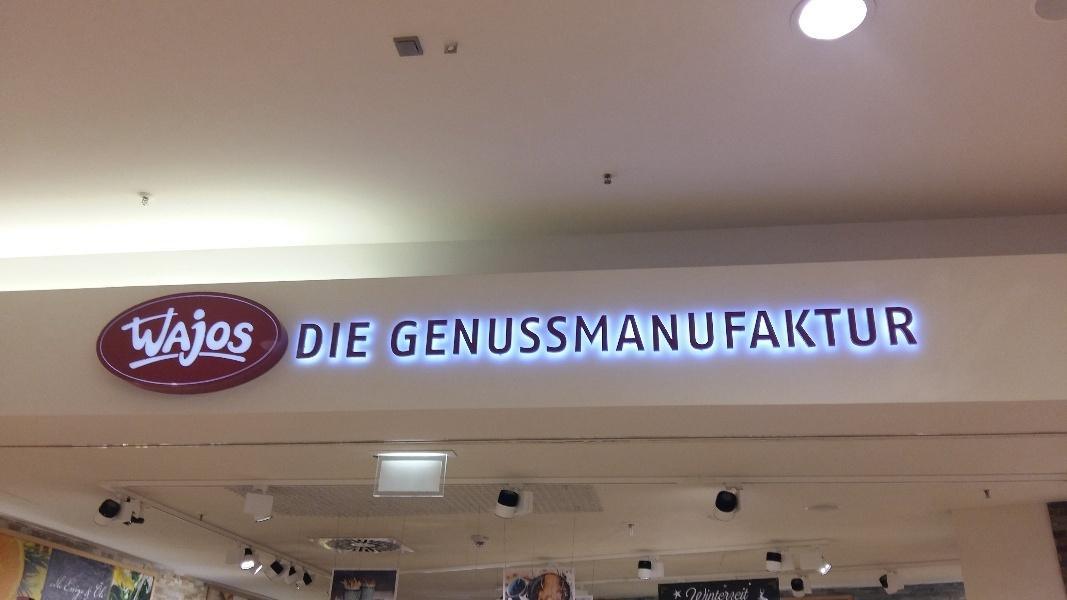text: (129, 307, 144, 370), (145, 307, 160, 370), (161, 307, 176, 370), (177, 307, 192, 370), (193, 307, 208, 370), (209, 307, 224, 370), (225, 307, 240, 370), (241, 307, 256, 370), (401, 305, 416, 358), (417, 305, 432, 358), (433, 305, 448, 358), (449, 305, 464, 358), (465, 305, 480, 358), (481, 305, 496, 358), (497, 305, 512, 358), (513, 305, 528, 358), (529, 305, 544, 358), (545, 305, 560, 358), (561, 305, 576, 358), (577, 305, 592, 358), (593, 305, 608, 358), (609, 305, 624, 358), (625, 305, 640, 358), (641, 305, 656, 358), (657, 305, 672, 358), (673, 305, 688, 358), (689, 305, 704, 358), (705, 305, 720, 358), (721, 305, 736, 358), (737, 305, 752, 358), (753, 305, 768, 358), (769, 305, 784, 358), (785, 305, 800, 358), (801, 305, 816, 358), (817, 305, 832, 358), (833, 305, 848, 358), (849, 305, 864, 358), (865, 305, 880, 358), (881, 305, 896, 358), (897, 305, 912, 358), (386, 305, 400, 358), (118, 307, 128, 370), (305, 321, 320, 360), (321, 321, 336, 360), (337, 321, 352, 360), (353, 321, 368, 360), (913, 305, 924, 358), (65, 573, 80, 600), (81, 573, 96, 600), (97, 573, 109, 600), (53, 573, 64, 600), (689, 587, 704, 600), (705, 587, 720, 600), (721, 587, 736, 600), (737, 587, 751, 600), (257, 307, 259, 370), (301, 321, 304, 360), (369, 321, 372, 360), (686, 587, 688, 600)
